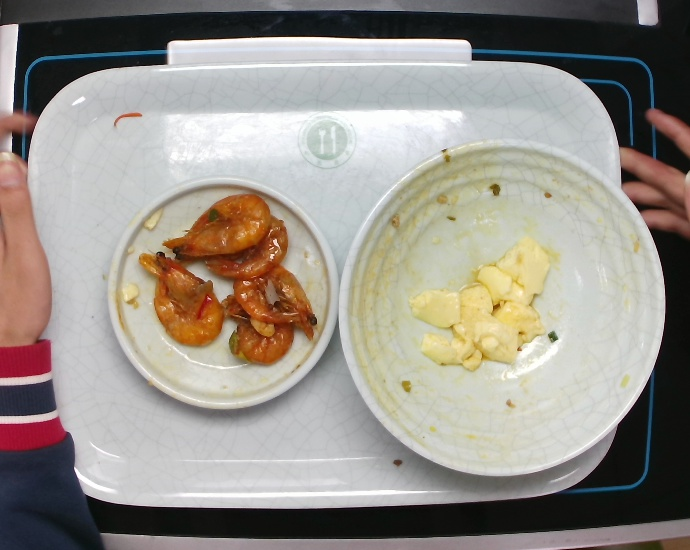JYsf-Da_Tang_Wan: (331, 130, 666, 481)
JYsf-Xiao_Yuan_Pan: (103, 170, 343, 416)
